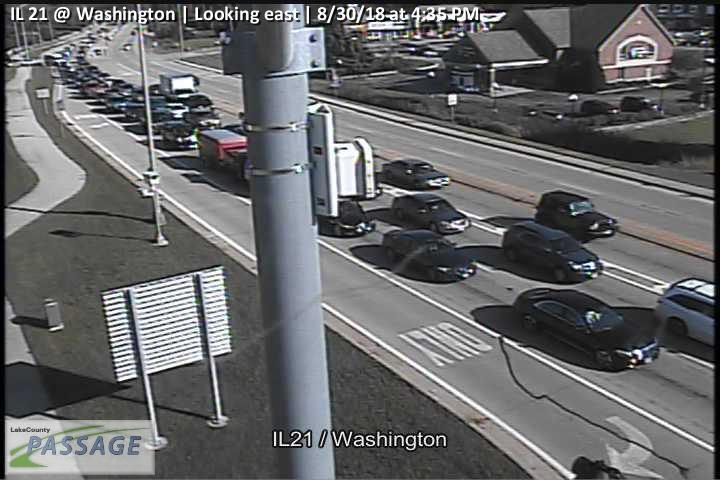SUV: (501, 220, 605, 282), (654, 277, 716, 347), (535, 190, 618, 239), (161, 122, 198, 150)
Sedan: (512, 287, 661, 369), (382, 227, 476, 283), (391, 193, 471, 234), (317, 198, 376, 238), (381, 157, 451, 190)
Truck: (196, 128, 250, 186)
